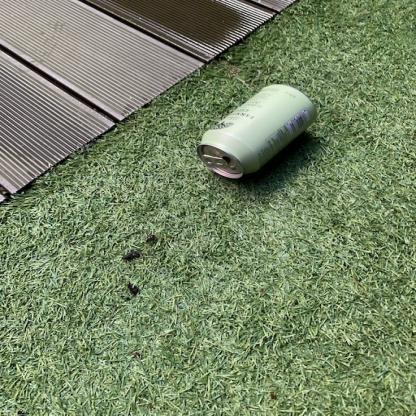trash: (198, 84, 314, 179)
